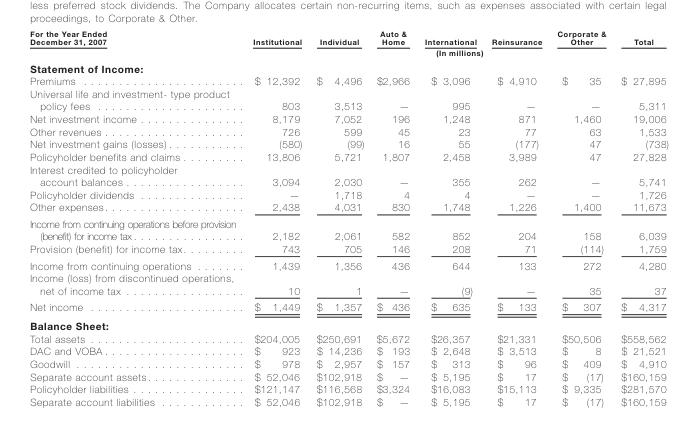table: (29, 28, 667, 407)
table column: (29, 28, 243, 407), (416, 28, 483, 407), (243, 28, 308, 407), (483, 28, 548, 407), (548, 28, 612, 407), (308, 28, 369, 407), (612, 28, 667, 407), (369, 28, 416, 407)
table column header: (29, 28, 667, 59)
table projected row header: (29, 315, 667, 331), (29, 59, 667, 74)
table row: (29, 215, 667, 242), (29, 271, 667, 298), (29, 86, 667, 112), (29, 162, 667, 187), (29, 28, 667, 46), (29, 298, 667, 315), (29, 315, 667, 331), (29, 59, 667, 74), (29, 200, 667, 215), (29, 256, 667, 271), (29, 242, 667, 256), (29, 46, 667, 59), (29, 124, 667, 137), (29, 137, 667, 150), (29, 187, 667, 200), (29, 331, 667, 344), (29, 344, 667, 357), (29, 369, 667, 382), (29, 382, 667, 395), (29, 74, 667, 86), (29, 112, 667, 124), (29, 150, 667, 162), (29, 357, 667, 369), (29, 395, 667, 407)
table spanning cell: (29, 28, 243, 59), (243, 46, 667, 59)
